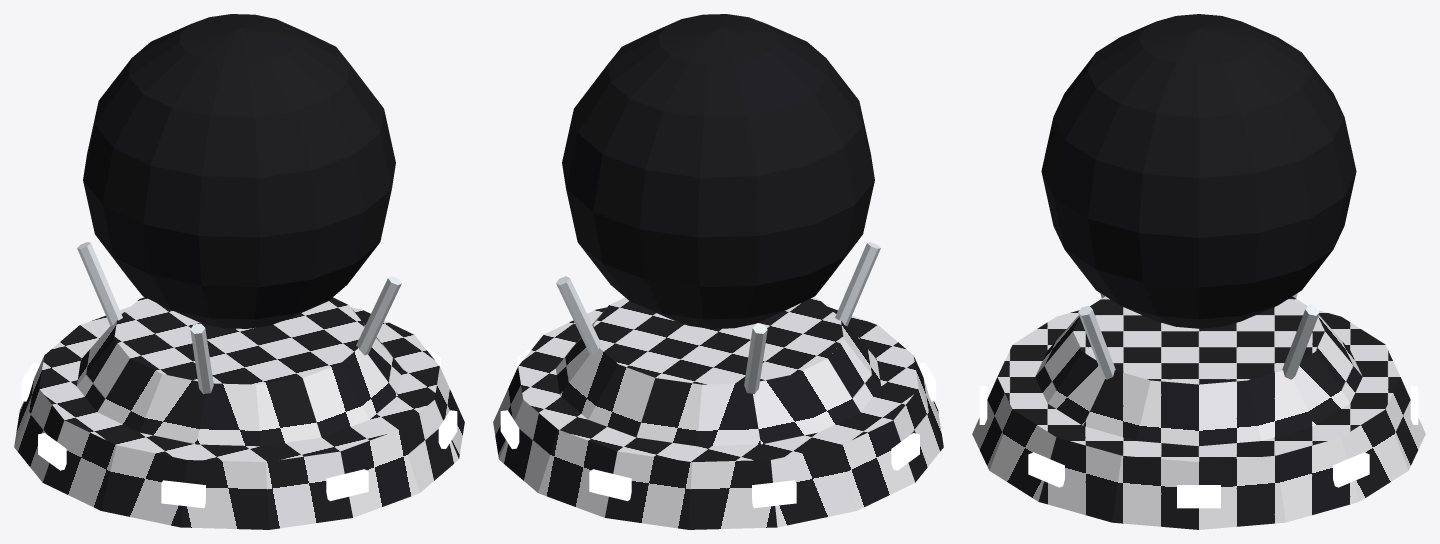
Rendered from Sphere_Trou_Noir.glb.
3 renders of one model, left to right at view 1: azimuth 30°, elevation 25°; view 2: azimuth 150°, elevation 25°; view 3: azimuth 270°, elevation 25°, orthographic.
Parts seen in each view (by area): view 1: Sphere_Trou_Noir; view 2: Sphere_Trou_Noir; view 3: Sphere_Trou_Noir.
Part boxes in pixels (x1,y1,x2,y2): Sphere_Trou_Noir: (14,14,464,529); Sphere_Trou_Noir: (493,14,943,529); Sphere_Trou_Noir: (972,14,1425,529).
Bounding box in the file's own units: 7.2 × 7.1 × 7.2.
Materials: 4 (1 with a texture image).
